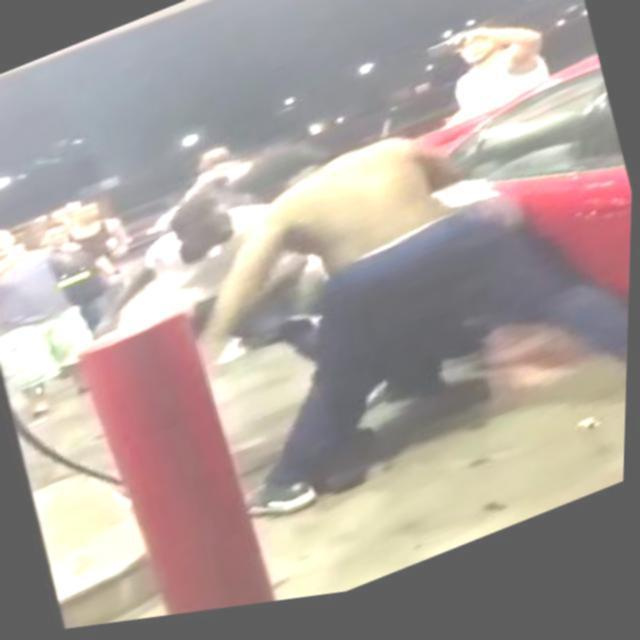fight: (96, 49, 637, 596)
